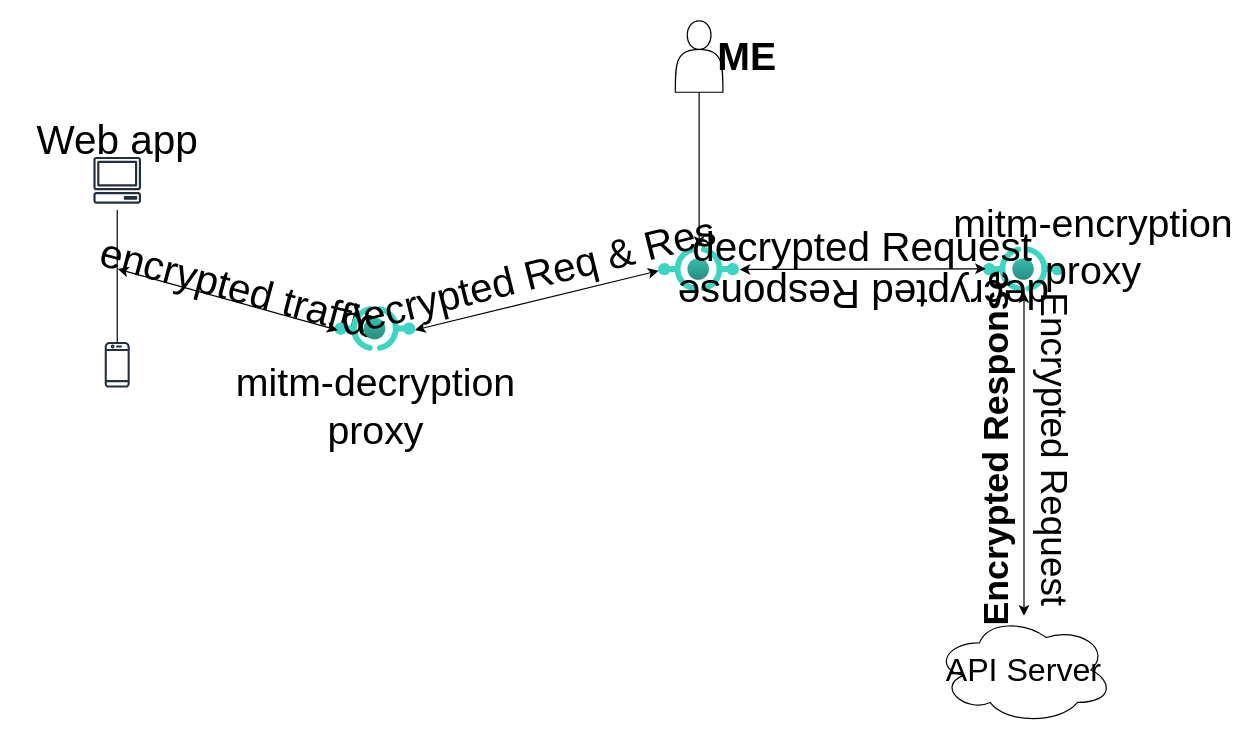
Some shapes in this 1252 by 745 pixel diagram are drawn without their labels. The centre of each missing label's shape, as x and y in pixels:
"Burpsuite Proxy" belongs at [698,269].
"Mobile apk" belongs at [116,364].
